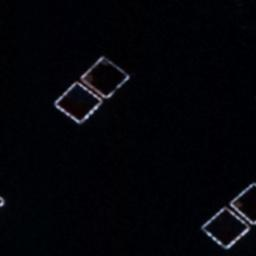square_solid: (49, 79, 110, 126), (79, 52, 135, 103), (195, 203, 252, 252), (223, 178, 256, 232)
